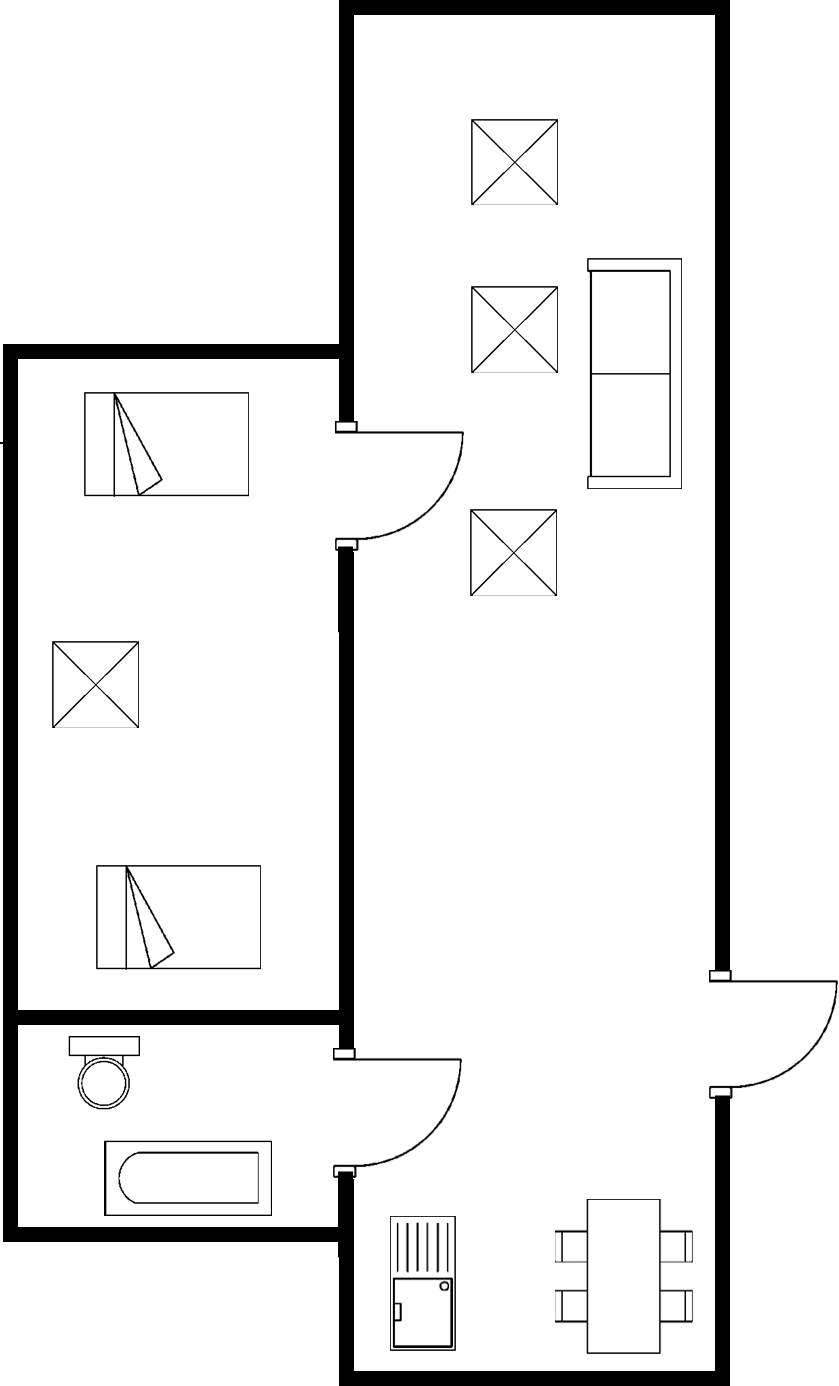bed: (78, 381, 253, 504), (90, 860, 268, 977)
coffee_table: (461, 502, 565, 606), (41, 633, 146, 736), (464, 280, 565, 381), (468, 111, 563, 213)
dining_table: (548, 1192, 700, 1357)
large_sink: (64, 1030, 148, 1115)
large_sofa: (580, 249, 688, 494)
sink: (380, 1209, 463, 1360)
tub: (95, 1131, 282, 1226)
